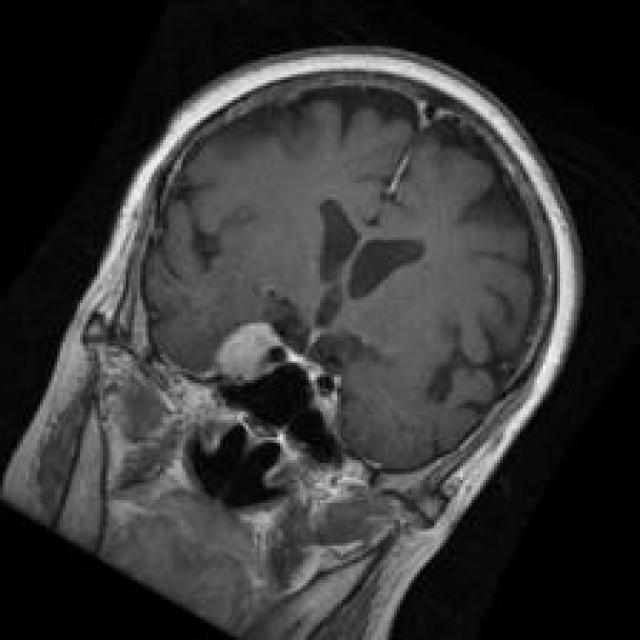meningioma_tumor: (193, 299, 312, 385)
